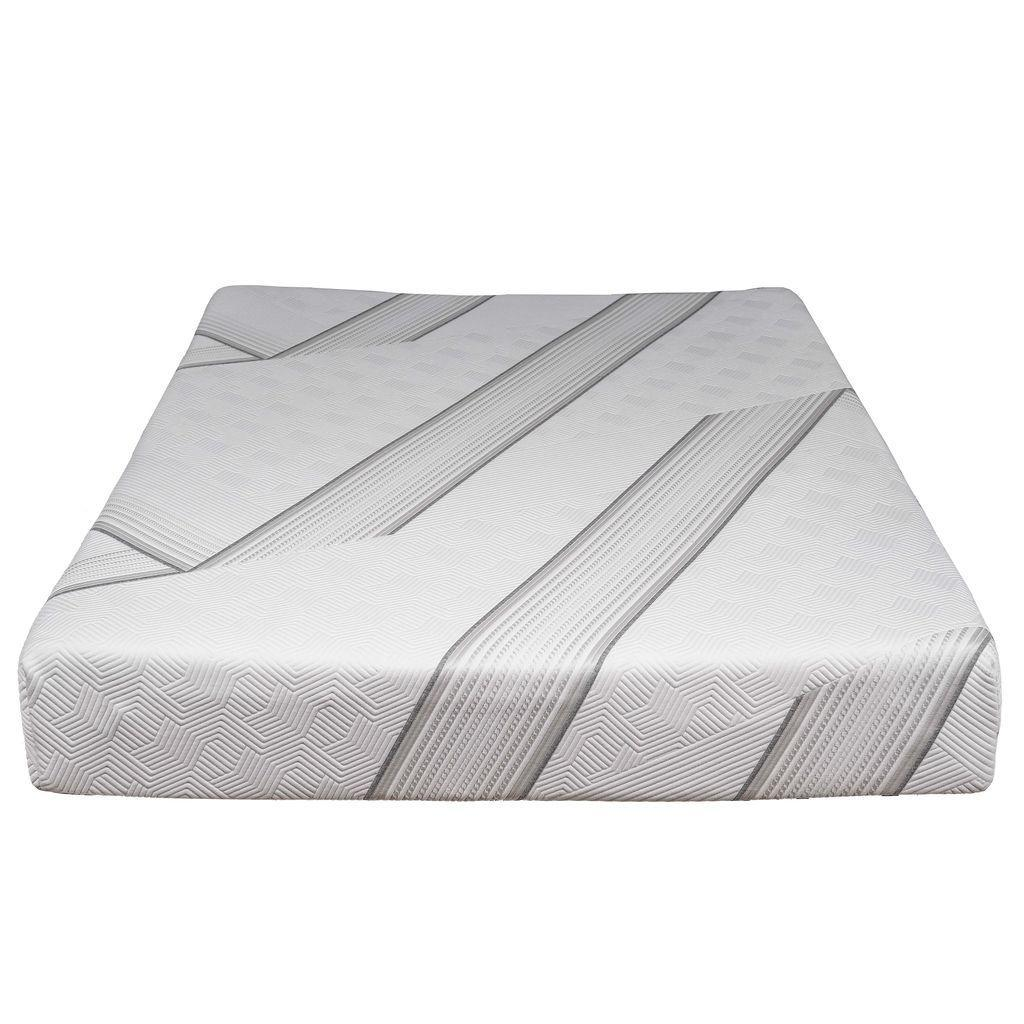Bed-Mattress: (8, 278, 1012, 810)
